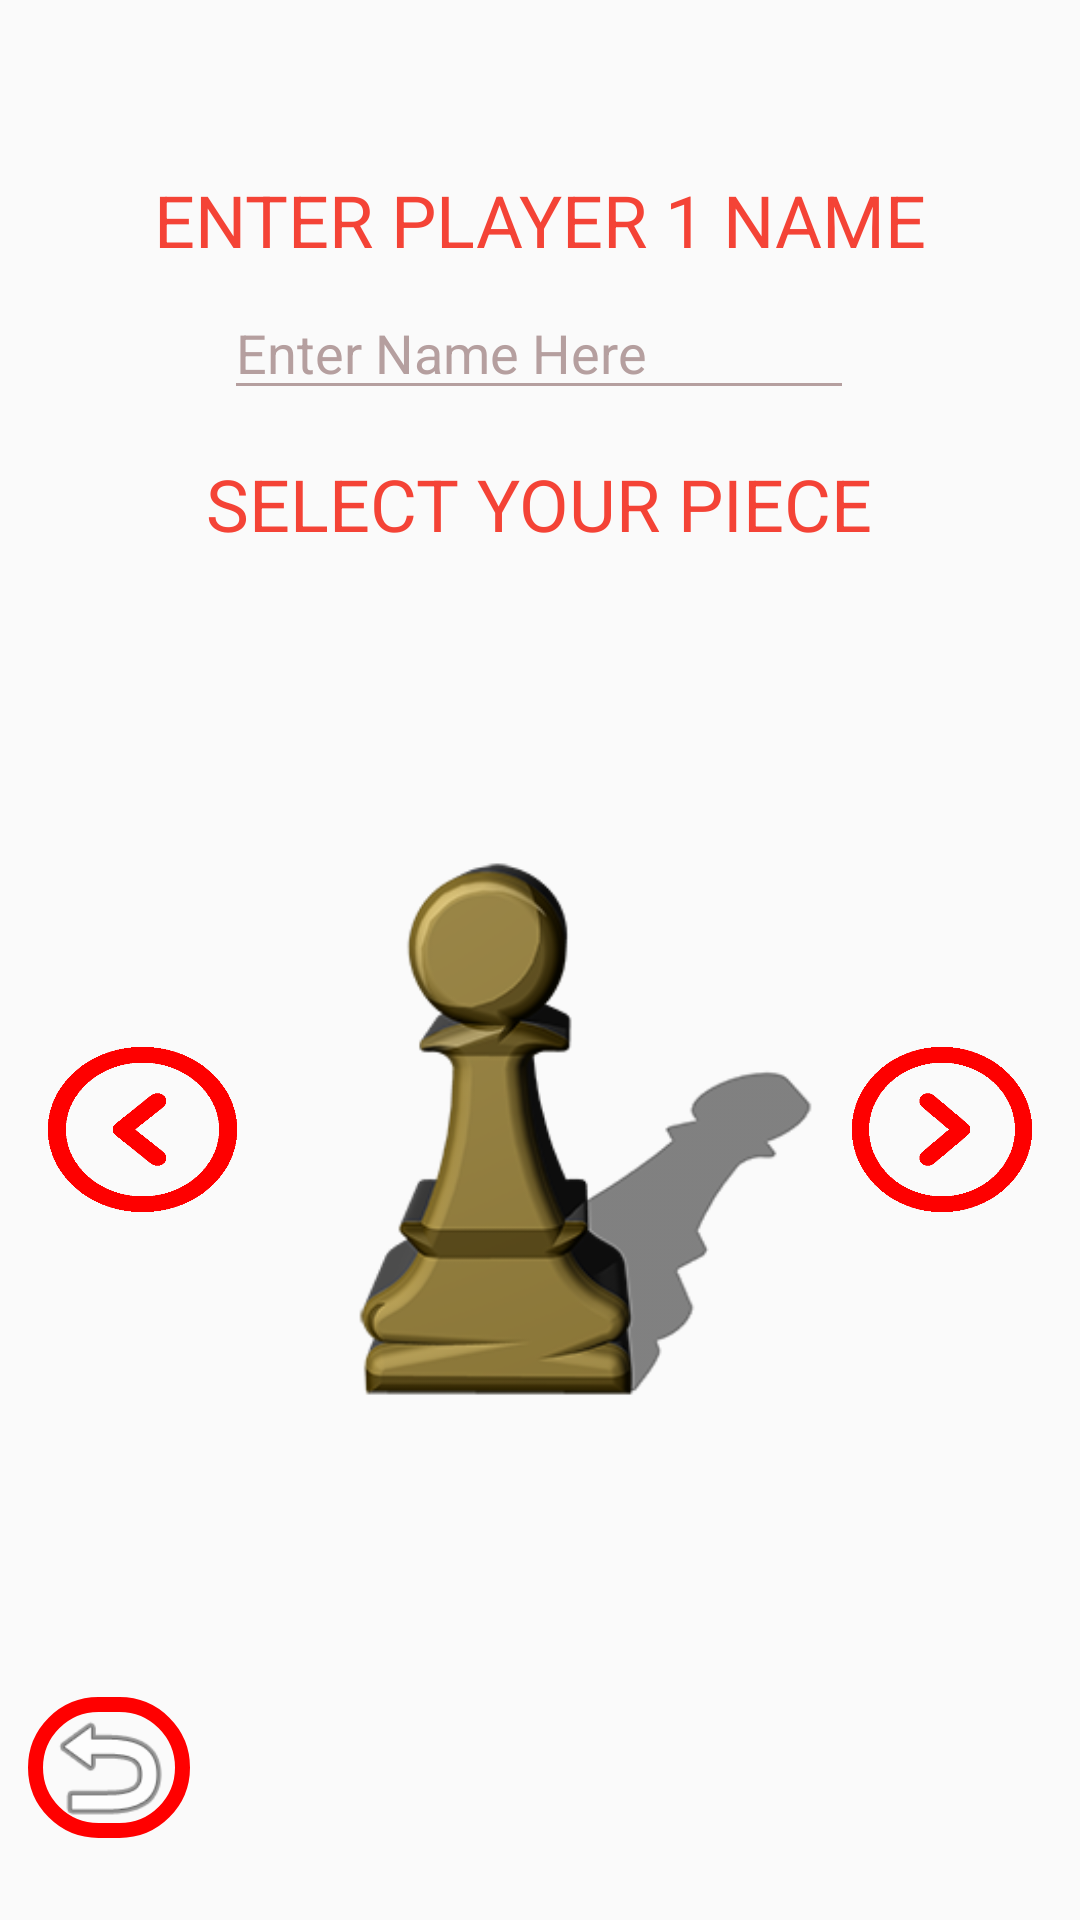

Named icons in this screenshot (1080 × 1920) and their centers, (x,y):
next: (942,1129)
pre: (142,1129)
revert: (109,1767)
